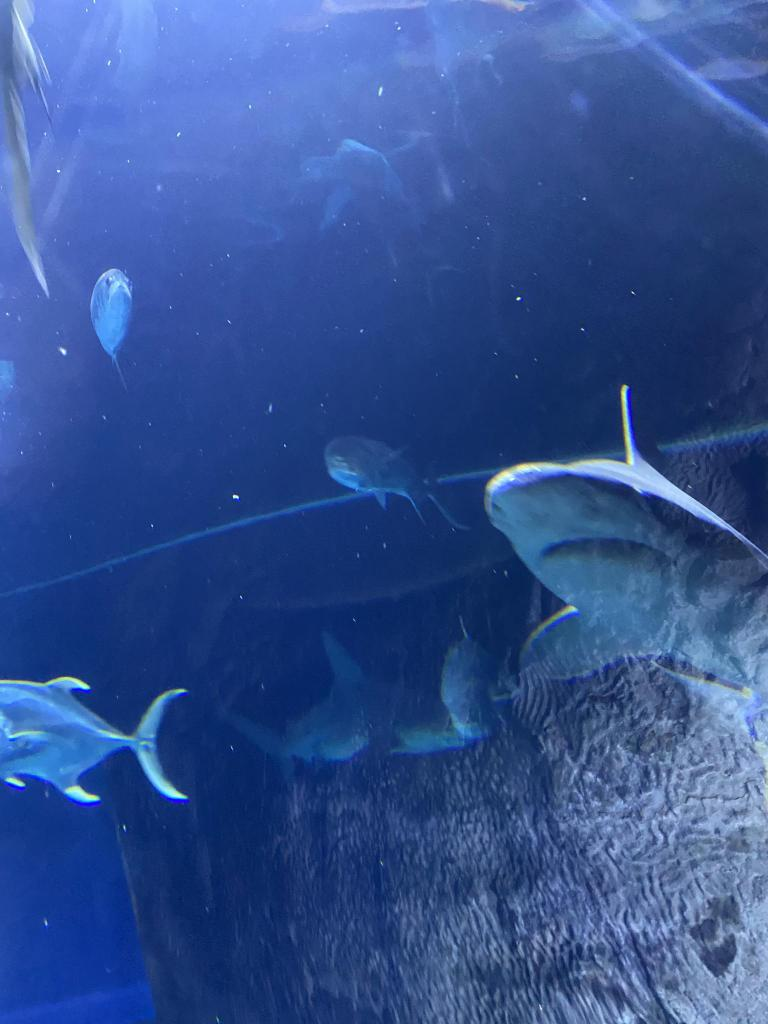fish: (0, 674, 187, 803), (326, 432, 462, 524), (442, 620, 498, 738), (90, 268, 130, 362)
shark: (488, 384, 768, 690), (220, 630, 466, 768)
